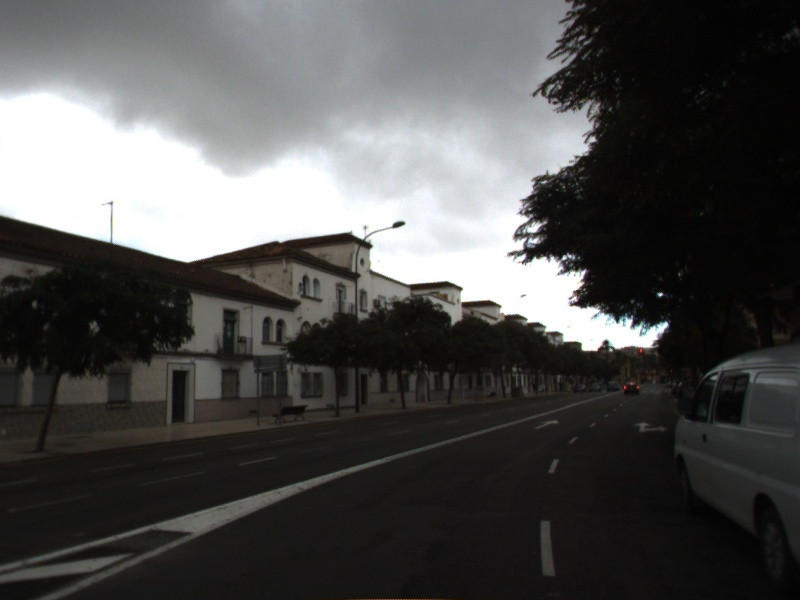STRAIGHT: (533, 418, 560, 431)
STRAIGHT_RIGHT: (632, 420, 670, 434)
